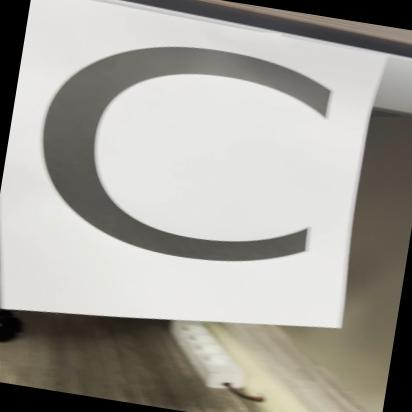seat: (0, 0, 381, 370)
